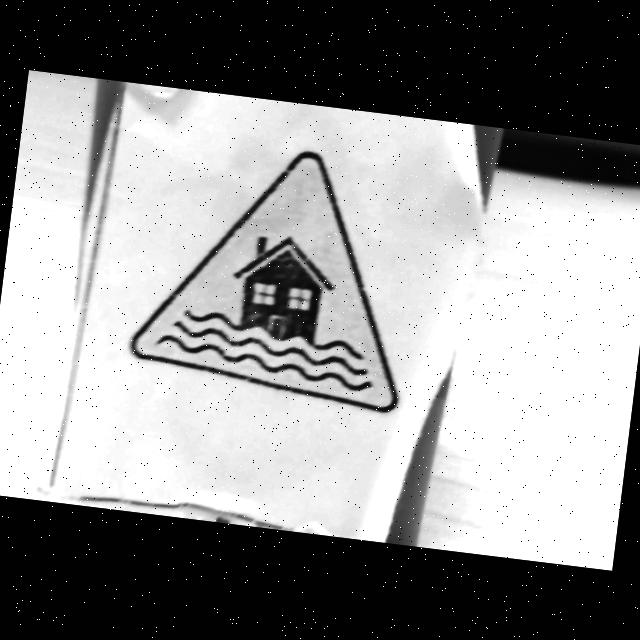Tsunami: (132, 151, 397, 412)
